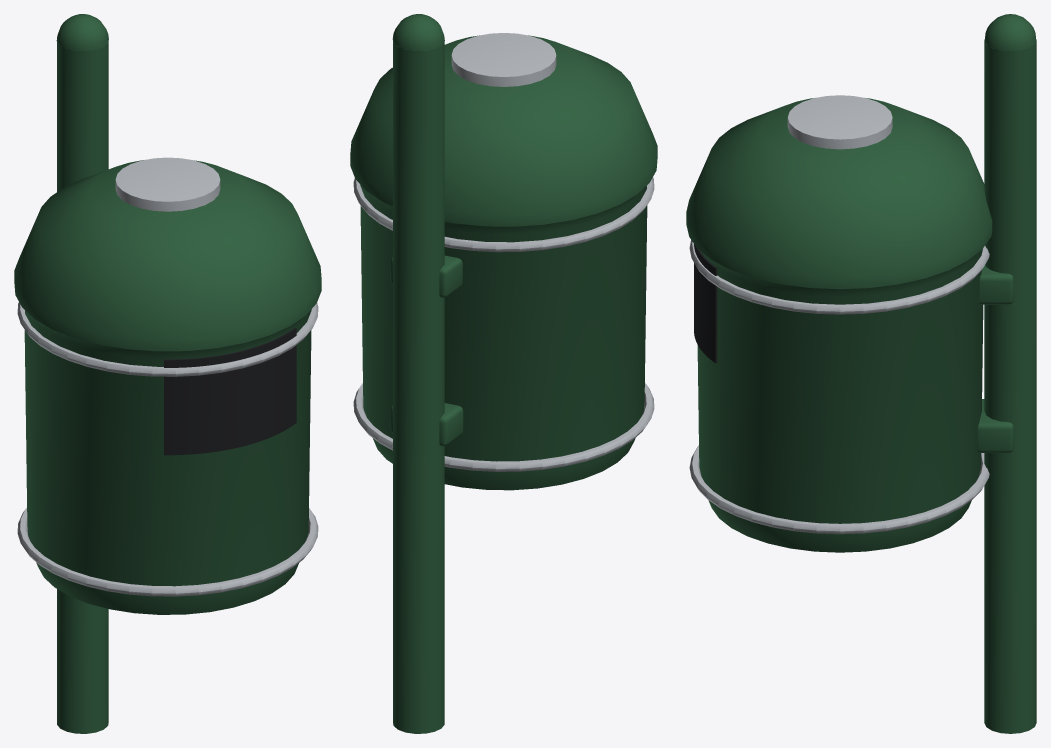
File: bus-stop-litter-bin.glb
3 renders of one model, left to right at view 1: azimuth 30°, elevation 25°; view 2: azimuth 150°, elevation 25°; view 3: azimuth 270°, elevation 25°, orthographic.
Visible parts, largest first — view 1: Bus_Stop_Litter_Bin; view 2: Bus_Stop_Litter_Bin; view 3: Bus_Stop_Litter_Bin.
Boxes of the visible parts, x1=… form: Bus_Stop_Litter_Bin: x1=14, y1=14, x2=321, y2=733; Bus_Stop_Litter_Bin: x1=350, y1=14, x2=657, y2=733; Bus_Stop_Litter_Bin: x1=686, y1=14, x2=1036, y2=733.
Size of the model in its own units: 0.47 by 1.19 by 0.535.
